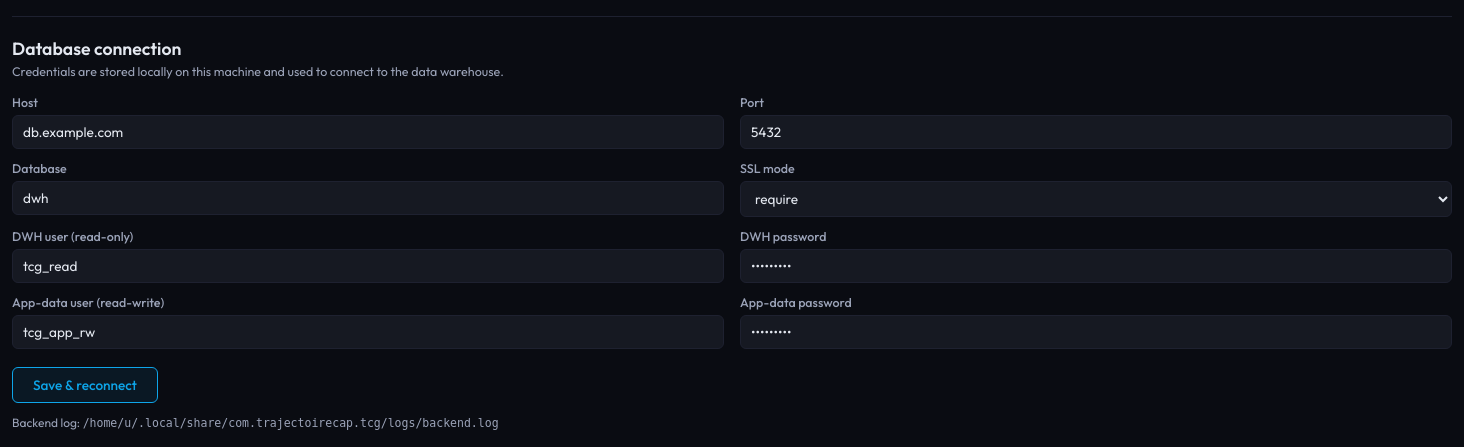
Test: <DatabaseSettings> › does NOT render the spawn hint on a realistic .env-write failure (carries "os error")
Expected: the field showing "db.example.com" is shown, [12, 115, 724, 149]
Click the button with test id "db-save-btn" at (85,385), box [12, 367, 158, 403]
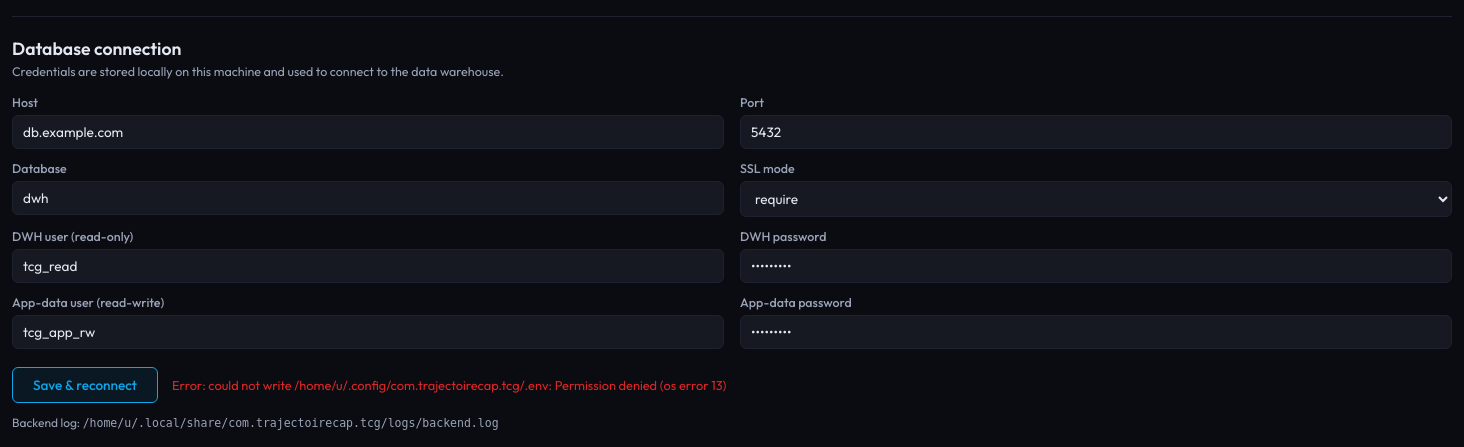
Expected: the message with test id "db-status" shows "os error 13", [172, 377, 726, 393]
